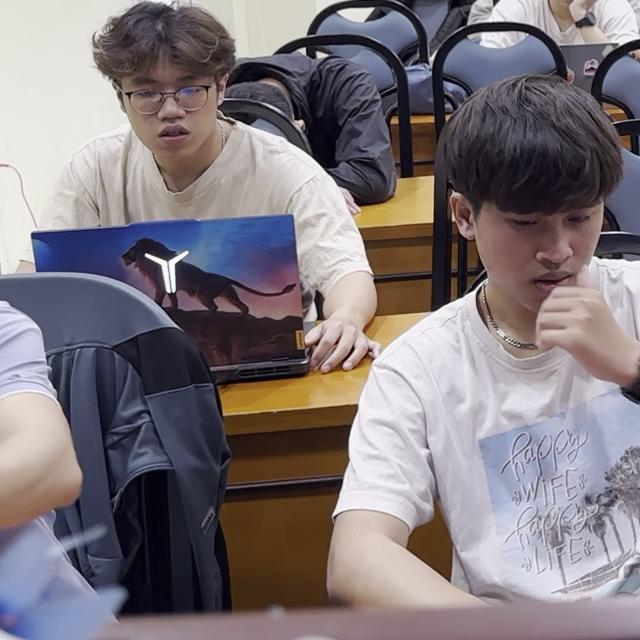Looking away: (477, 195, 606, 319), (116, 68, 221, 162)
